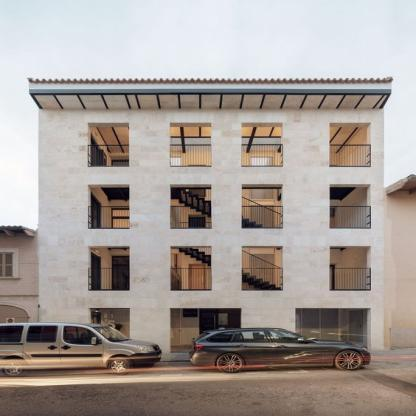Balcony: (241, 144, 283, 167), (88, 269, 130, 291), (241, 269, 283, 291), (329, 145, 371, 167), (329, 207, 371, 229), (170, 207, 212, 229), (241, 207, 283, 229), (330, 269, 371, 291), (170, 269, 211, 291), (88, 207, 129, 229), (88, 145, 129, 167), (170, 145, 211, 167)
Building Outline: (27, 76, 393, 353)
Dont: (0, 322, 162, 377), (188, 327, 372, 373)
Door Hole: (296, 308, 371, 353), (171, 308, 241, 353), (89, 308, 130, 353)
Facade: (39, 110, 385, 353)
Floor Slab: (39, 291, 385, 295), (39, 229, 385, 233), (39, 167, 385, 171)
Pillar: (240, 308, 296, 353), (130, 308, 170, 353)
Top Floor: (39, 294, 385, 353), (39, 233, 385, 291), (39, 171, 385, 228), (39, 110, 385, 167)
Window Hole: (329, 184, 371, 229), (241, 184, 283, 229), (170, 184, 212, 229), (88, 246, 130, 291), (241, 123, 283, 167), (329, 123, 371, 167), (88, 122, 129, 167), (330, 246, 371, 291), (88, 184, 129, 229), (170, 246, 211, 291), (242, 246, 283, 291), (170, 123, 211, 167)
